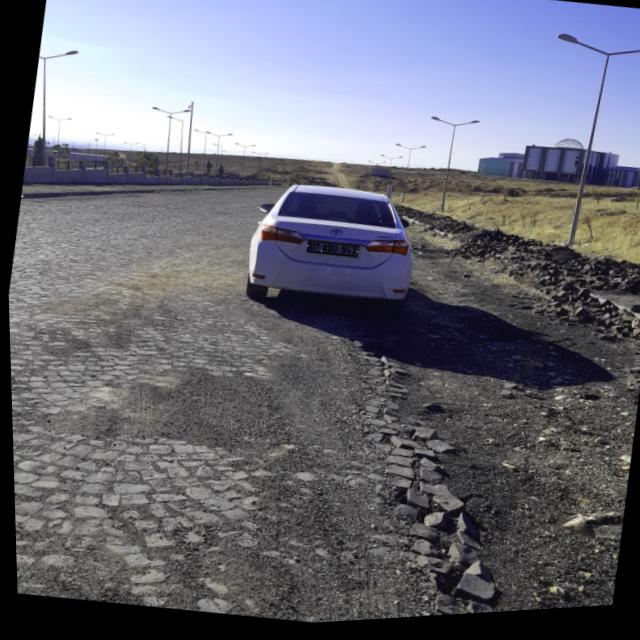license_plate: (305, 242, 360, 265)
